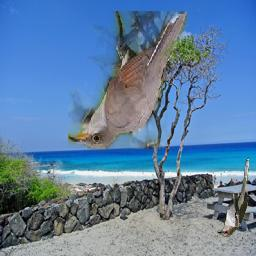Cuckoo: (69, 11, 188, 149), (217, 157, 250, 237)
